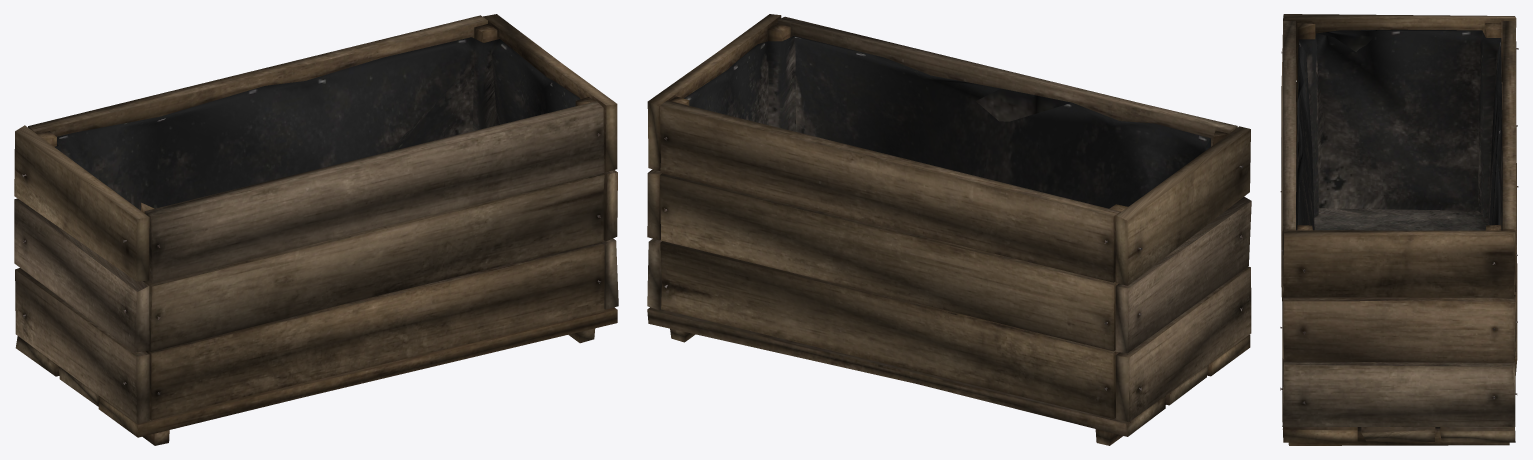
File: PlanterBoxLOD2.fbx
3 views of the same model, side by side, from view 1: azimuth 30°, elevation 25°; view 2: azimuth 150°, elevation 25°; view 3: azimuth 270°, elevation 25° (orthographic). The views are drawn at different scales.
Visible parts, largest first — view 1: planter_box_01; view 2: planter_box_01; view 3: planter_box_01.
Boxes of the visible parts, box(x1,y1,x2,y2) form: planter_box_01: box(14, 14, 618, 445); planter_box_01: box(647, 14, 1251, 445); planter_box_01: box(1280, 14, 1518, 445).
Size of the model in its own units: 91.15 by 42.34 by 41.19.
1 material, 1 textured.
